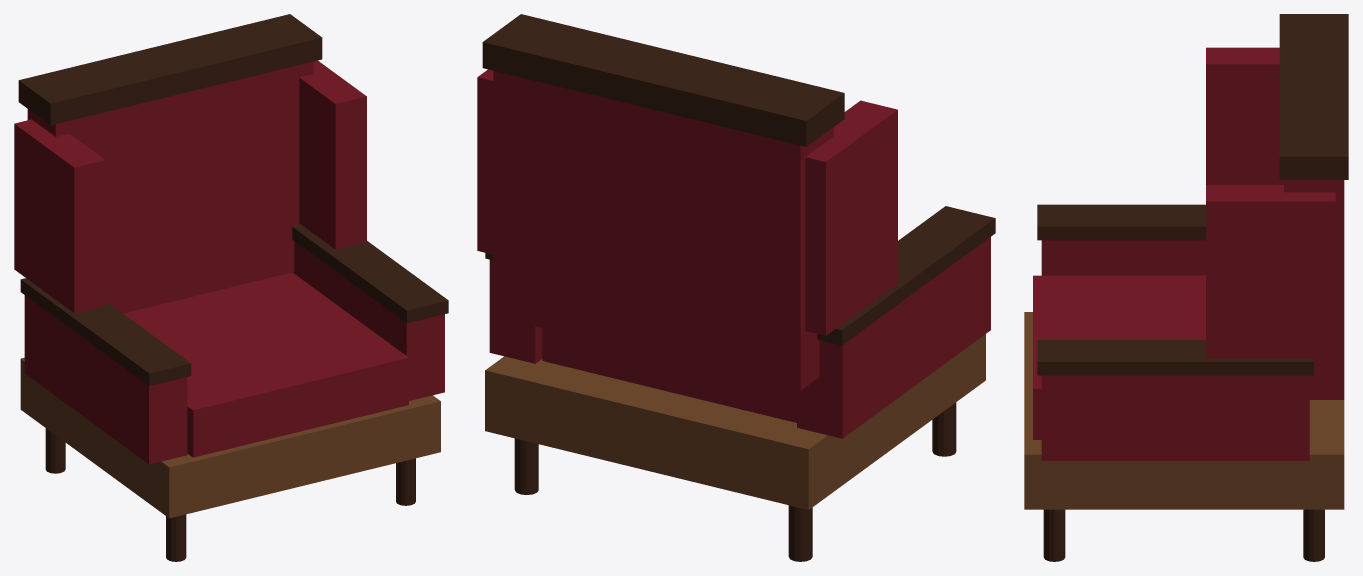
File: poltrona_vitoriana.obj
The picture shows the model from 3 angles, left to right: view 1: azimuth 30°, elevation 25°; view 2: azimuth 150°, elevation 25°; view 3: azimuth 270°, elevation 25°; orthographic projection. The views are drawn at different scales.
Visible parts, largest first — view 1: parte_06_veludo_vinho, parte_05_veludo_vinho, parte_04_madeira, parte_07_madeira_escura, parte_10_veludo_vinho, parte_08_veludo_vinho, parte_13_veludo_vinho, parte_11_veludo_vinho, parte_09_madeira_escura, parte_12_madeira_escura, parte_01_madeira_escura, parte_03_madeira_escura (+1 smaller); view 2: parte_06_veludo_vinho, parte_04_madeira, parte_07_madeira_escura, parte_10_veludo_vinho, parte_08_veludo_vinho, parte_05_veludo_vinho, parte_09_madeira_escura, parte_13_veludo_vinho, parte_11_veludo_vinho, parte_00_madeira_escura, parte_02_madeira_escura, parte_01_madeira_escura; view 3: parte_11_veludo_vinho, parte_13_veludo_vinho, parte_04_madeira, parte_05_veludo_vinho, parte_07_madeira_escura, parte_10_veludo_vinho, parte_12_madeira_escura, parte_09_madeira_escura, parte_08_veludo_vinho, parte_06_veludo_vinho, parte_03_madeira_escura, parte_02_madeira_escura.
Part boxes in pixels (x1,y1,x2,y2): parte_06_veludo_vinho: [27, 61, 313, 313]; parte_05_veludo_vinho: [124, 272, 408, 457]; parte_04_madeira: [20, 357, 440, 518]; parte_07_madeira_escura: [18, 14, 322, 125]; parte_10_veludo_vinho: [14, 119, 105, 313]; parte_08_veludo_vinho: [24, 295, 187, 464]; parte_13_veludo_vinho: [299, 60, 366, 249]; parte_11_veludo_vinho: [293, 241, 444, 400]; parte_09_madeira_escura: [20, 278, 191, 386]; parte_12_madeira_escura: [292, 225, 448, 323]; parte_01_madeira_escura: [166, 514, 186, 561]; parte_03_madeira_escura: [396, 458, 415, 505]; parte_06_veludo_vinho: [493, 70, 833, 390]; parte_04_madeira: [485, 334, 985, 509]; parte_07_madeira_escura: [482, 14, 844, 146]; parte_10_veludo_vinho: [805, 100, 897, 335]; parte_08_veludo_vinho: [797, 237, 990, 438]; parte_05_veludo_vinho: [542, 328, 796, 422]; parte_09_madeira_escura: [817, 206, 995, 345]; parte_13_veludo_vinho: [477, 69, 493, 254]; parte_11_veludo_vinho: [489, 259, 542, 363]; parte_00_madeira_escura: [788, 505, 812, 561]; parte_02_madeira_escura: [514, 438, 538, 494]; parte_01_madeira_escura: [932, 402, 956, 456]; parte_11_veludo_vinho: [1041, 375, 1309, 460]; parte_13_veludo_vinho: [1206, 185, 1335, 358]; parte_04_madeira: [1024, 312, 1344, 509]; parte_05_veludo_vinho: [1033, 275, 1205, 439]; parte_07_madeira_escura: [1279, 14, 1348, 179]; parte_10_veludo_vinho: [1206, 47, 1283, 184]; parte_12_madeira_escura: [1037, 340, 1313, 375]; parte_09_madeira_escura: [1037, 204, 1205, 240]; parte_08_veludo_vinho: [1041, 240, 1205, 275]; parte_06_veludo_vinho: [1284, 180, 1344, 399]; parte_03_madeira_escura: [1043, 509, 1065, 561]; parte_02_madeira_escura: [1303, 509, 1324, 561].
Bounding box in the file's own units: 0.86 × 1.05 × 0.75.
